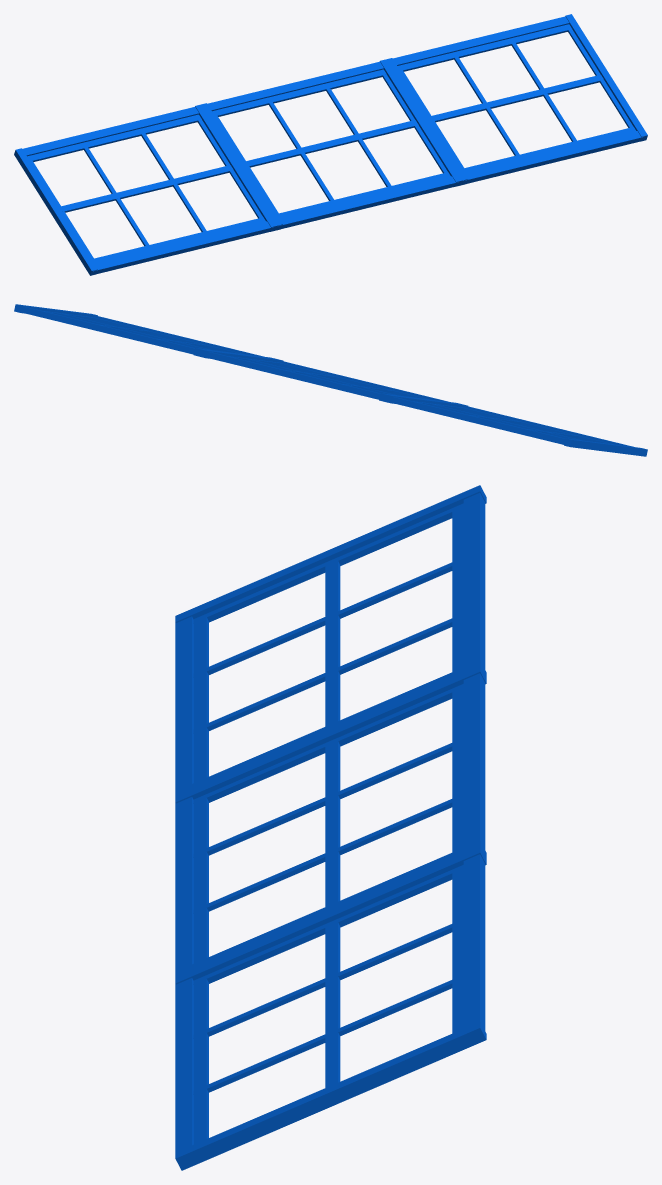
Rendered from Warehouse_03_Window_02.fbx.
3 renders of one model, top to bottom at view 1: azimuth 30°, elevation 25°; view 2: azimuth 150°, elevation 25°; view 3: azimuth 270°, elevation 25°, orthographic. The views are drawn at different scales.
Parts seen in each view (by area): view 1: Warehouse_03_Window_02; view 2: Warehouse_03_Window_02; view 3: Warehouse_03_Window_02.
Boxes of the visible parts, box(x1,y1,x2,y2) form: Warehouse_03_Window_02: box(14, 14, 647, 275); Warehouse_03_Window_02: box(14, 304, 647, 456); Warehouse_03_Window_02: box(175, 485, 486, 1170).
Bounding box in the file's own units: 1236 × 152 × 299.
